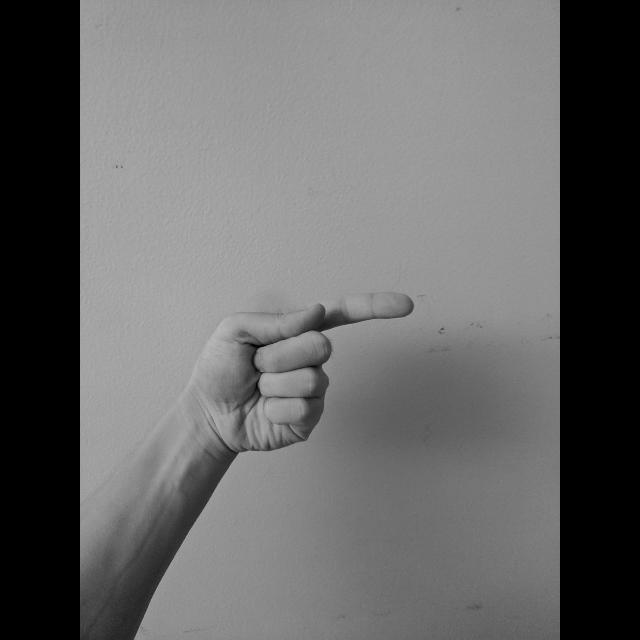G: (186, 288, 417, 456)
